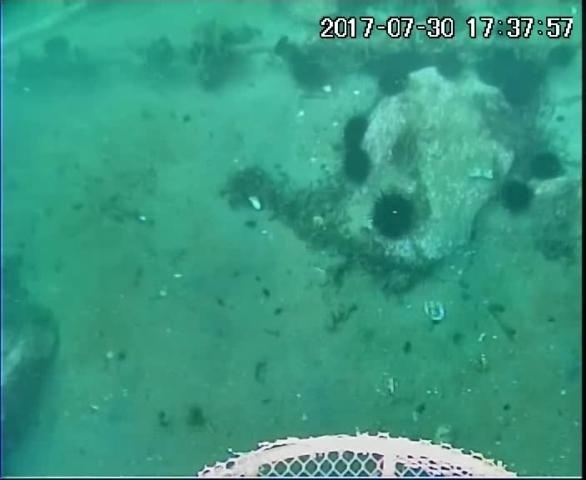echinus: (367, 189, 421, 243), (373, 48, 422, 100), (285, 50, 332, 96), (498, 59, 543, 107), (386, 124, 423, 172), (495, 177, 537, 219), (430, 46, 469, 86), (525, 148, 567, 185), (338, 111, 374, 154), (339, 146, 375, 187), (479, 47, 515, 86), (543, 39, 581, 75)
